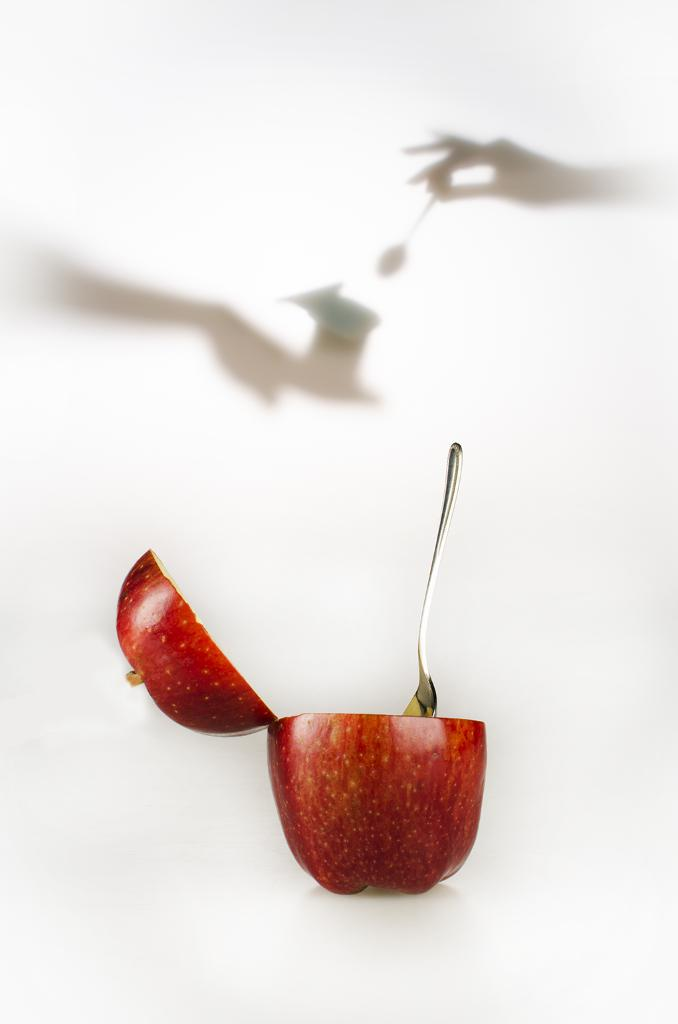Apple: (267, 700, 488, 910), (112, 545, 287, 738)
